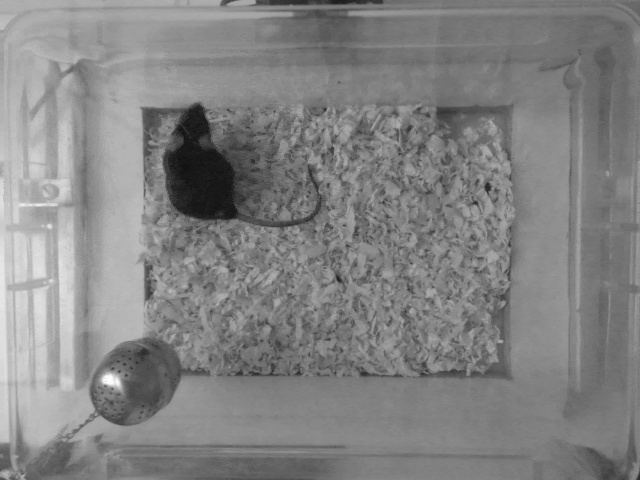mice: (158, 89, 324, 225)
